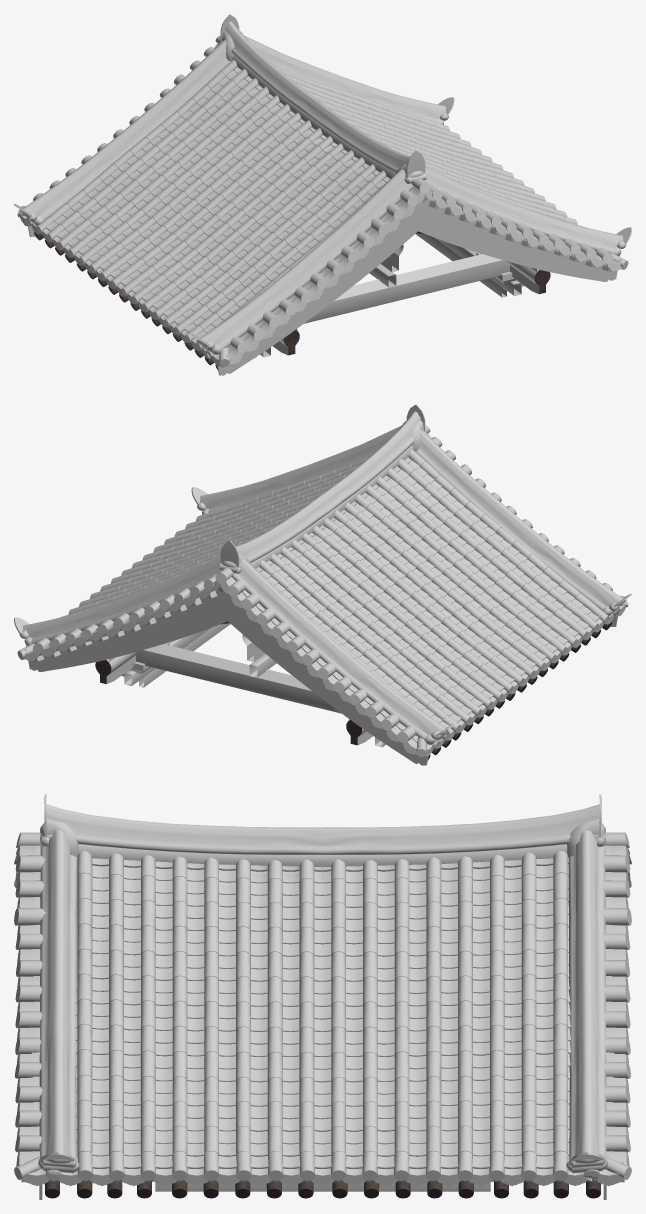
File: SM_Roof_7.FBX
3 views of the same model, one above another, from view 1: azimuth 30°, elevation 25°; view 2: azimuth 150°, elevation 25°; view 3: azimuth 270°, elevation 25° (orthographic). The views are drawn at different scales.
Visible parts, largest first — view 1: SM_Roof_7; view 2: SM_Roof_7; view 3: SM_Roof_7.
Boxes of the visible parts, bbox=[...] form: SM_Roof_7: bbox=[14, 14, 631, 375]; SM_Roof_7: bbox=[14, 404, 631, 765]; SM_Roof_7: bbox=[14, 794, 631, 1199].
Size of the model in its own units: 1448 by 643 by 1182.
